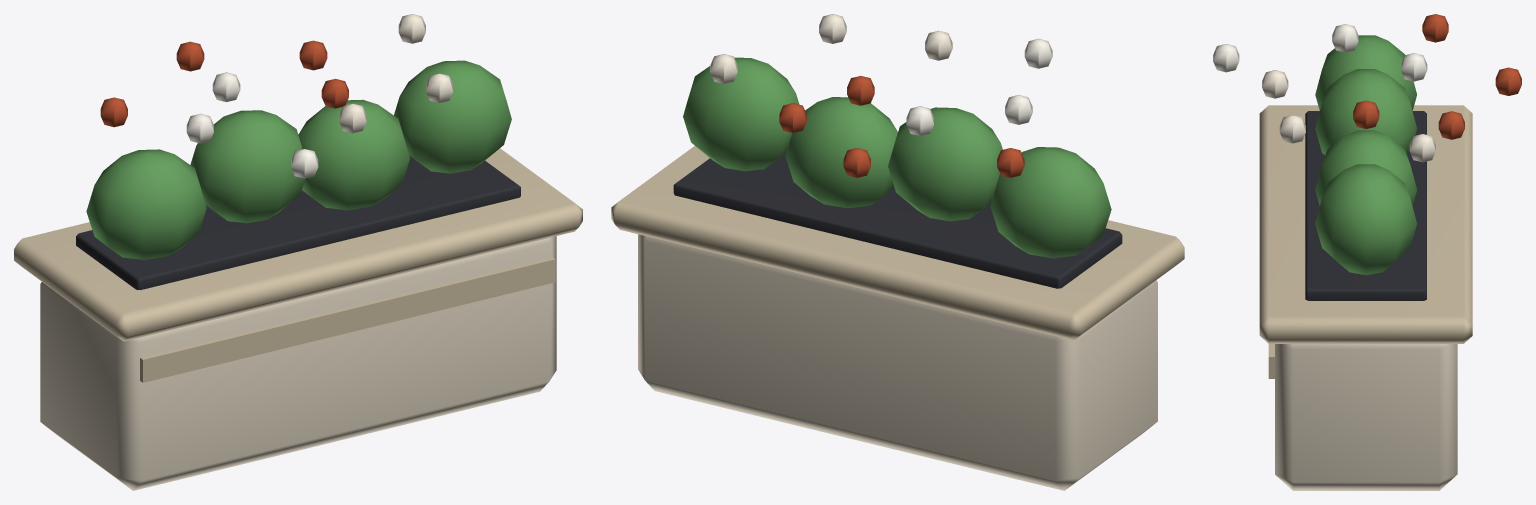
The model's file is street_planter.glb.
3 renders of one model, left to right at view 1: azimuth 30°, elevation 25°; view 2: azimuth 150°, elevation 25°; view 3: azimuth 270°, elevation 25°, orthographic. The views are drawn at different scales.
Parts seen in each view (by area): view 1: street_planter; view 2: street_planter; view 3: street_planter.
Boxes of the visible parts, x1=… form: street_planter: x1=14, y1=14, x2=582, y2=490; street_planter: x1=611, y1=14, x2=1184, y2=490; street_planter: x1=1213, y1=14, x2=1521, y2=490.
Bounding box in the file's own units: 1.7 × 1.19 × 1.01.
